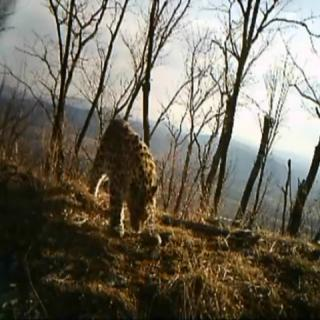Leopard: (86, 122, 192, 238)
